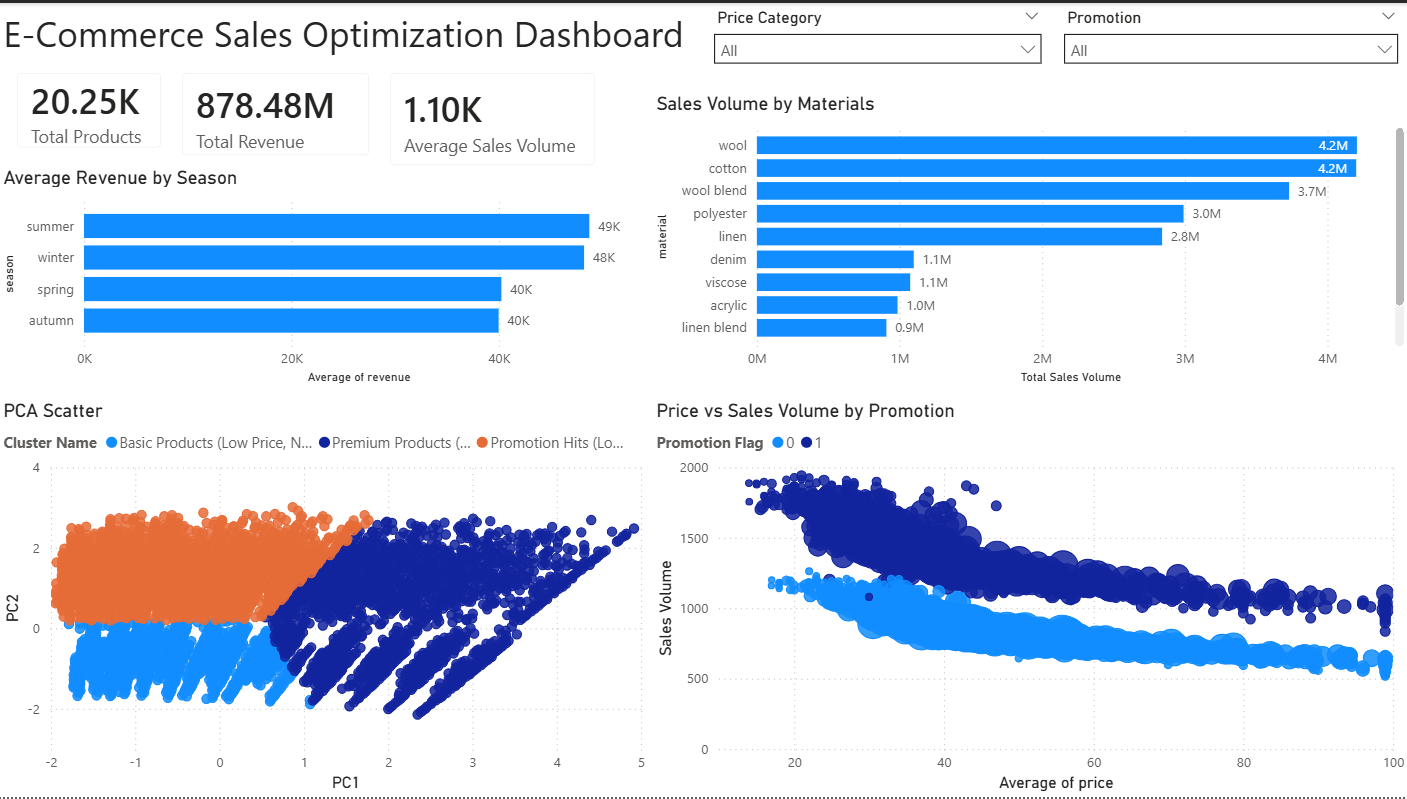

The page's visual inventory and layout, read from the dashboard file:
{"tool":"powerbi","page":{"name":"Page 1","canvas":[1280,720],"ordinal":0},"visuals":[{"type":"cardVisual","fields":{"Data":["CountNonNull(ecommerce_sales_dashboard.Product ID)"]},"box":[0,46,165.4,102],"z":0},{"type":"cardVisual","fields":{"Data":["Sum(ecommerce_sales_dashboard.revenue)"]},"box":[149.3,46,204,109.5],"z":1000},{"type":"cardVisual","fields":{"Data":["Avg(ecommerce_sales_dashboard.Sales Volume)"]},"box":[338.4,46,220.2,118.2],"z":2000},{"type":"clusteredBarChart","title":"Average Revenue by Season","fields":{"Category":["ecommerce_sales_dashboard.season"],"Y":["Avg(ecommerce_sales_dashboard.revenue)"]},"box":[0,148,592.1,201.5],"z":3000},{"type":"clusteredBarChart","title":"Sales Volume by  Materials","fields":{"Category":["ecommerce_sales_dashboard.material"],"Y":["ecommerce_sales_dashboard.Total Sales Volume"]},"box":[592.1,80.9,687.9,268.7],"z":4000},{"type":"scatterChart","title":"PCA Scatter","fields":{"X":["ecommerce_sales_dashboard.PC1"],"Y":["ecommerce_sales_dashboard.PC2"],"Series":["ecommerce_sales_dashboard.Cluster Name"]},"box":[0,359.5,592.1,360.7],"z":5000},{"type":"slicer","fields":{"Values":["ecommerce_sales_dashboard.Price Category"]},"box":[639.4,0,317.2,70.9],"z":6000},{"type":"slicer","fields":{"Values":["ecommerce_sales_dashboard.Promotion"]},"box":[956.6,0,323.4,70.9],"z":7000},{"type":"scatterChart","title":"Price vs Sales Volume by Promotion","fields":{"X":["Avg(ecommerce_sales_dashboard.price)"],"Y":["ecommerce_sales_dashboard.Sales Volume"],"Series":["ecommerce_sales_dashboard.Promotion Flag"],"Size":["Sum(ecommerce_sales_dashboard.revenue)"]},"box":[592.1,359.5,687.9,360.7],"z":8000},{"type":"textbox","box":[0,0,629.4,54.7],"z":9000}]}

Visuals, with their boxes in screenshot pixels (x1, y1, x2, y2), scaled from the page's 1280x720 canvas onto the 1407x799 screenshot:
cardVisual - CountNonNull(ecommerce_sales_dashboard.Product ID): Rect(0, 51, 182, 164)
cardVisual - Sum(ecommerce_sales_dashboard.revenue): Rect(164, 51, 388, 173)
cardVisual - Avg(ecommerce_sales_dashboard.Sales Volume): Rect(372, 51, 614, 182)
"Average Revenue by Season" clusteredBarChart: Rect(0, 164, 651, 388)
"Sales Volume by  Materials" clusteredBarChart: Rect(651, 90, 1406, 388)
"PCA Scatter" scatterChart: Rect(0, 399, 651, 798)
slicer - ecommerce_sales_dashboard.Price Category: Rect(703, 0, 1052, 79)
slicer - ecommerce_sales_dashboard.Promotion: Rect(1052, 0, 1406, 79)
"Price vs Sales Volume by Promotion" scatterChart: Rect(651, 399, 1406, 798)
textbox: Rect(0, 0, 692, 61)
